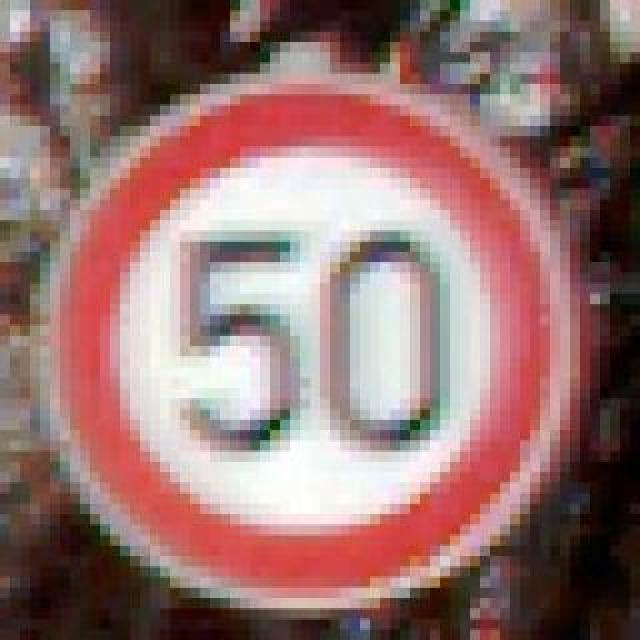50 kph: (20, 52, 570, 598)
